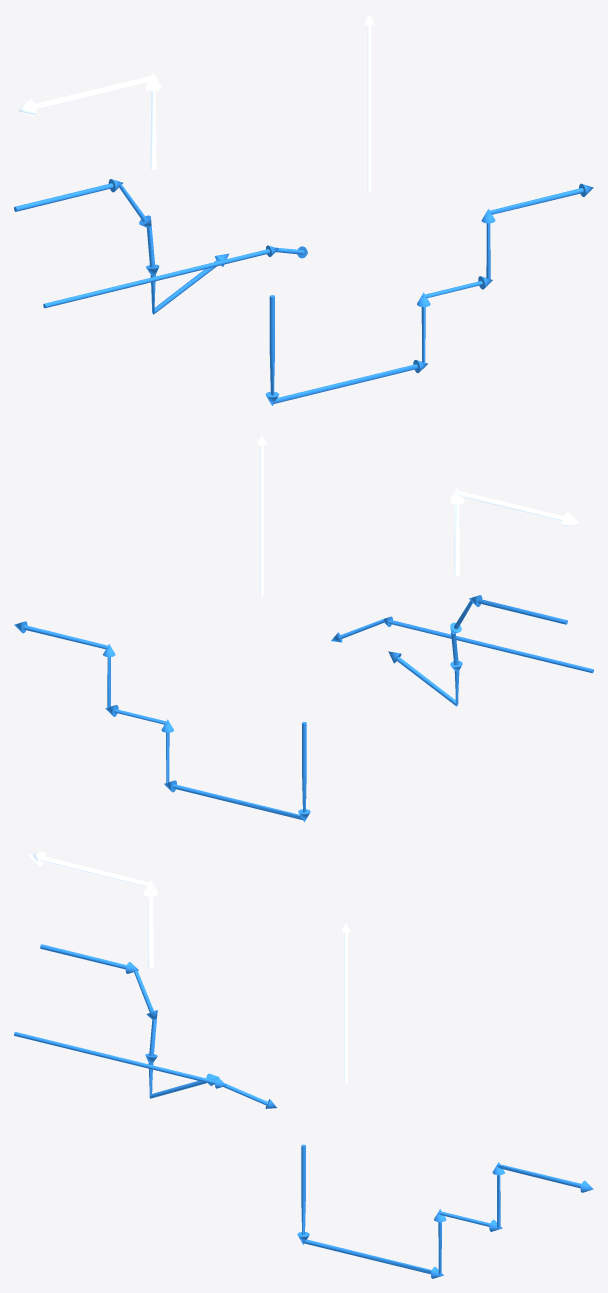
The model's file is condensate_recovery_system_flow.glb.
3 renders of one model, top to bottom at view 1: azimuth 30°, elevation 25°; view 2: azimuth 150°, elevation 25°; view 3: azimuth 330°, elevation 25°, orthographic. The views are drawn at different scales.
Parts seen in each view (by area): view 1: pumped_return, hp_condensate, flash_steam_out, returns, vent; view 2: pumped_return, hp_condensate, flash_steam_out, returns, vent; view 3: pumped_return, hp_condensate, flash_steam_out, returns, vent.
Boxes of the visible parts, x1,y1,x2,y2 form: pumped_return: (265,183,593,405); hp_condensate: (14,179,228,314); flash_steam_out: (18,72,161,169); returns: (43,245,307,308); vent: (364,14,374,192); pumped_return: (14,621,310,822); hp_condensate: (388,595,567,706); flash_steam_out: (449,488,578,575); returns: (331,616,593,673); vent: (257,435,266,595); pumped_return: (297,1144,593,1278); hp_condensate: (40,944,219,1098); flash_steam_out: (29,851,158,968); returns: (14,1032,276,1108); vent: (341,923,350,1083).
Bounding box in the file's own units: 4.17 × 2.62 × 0.628.
